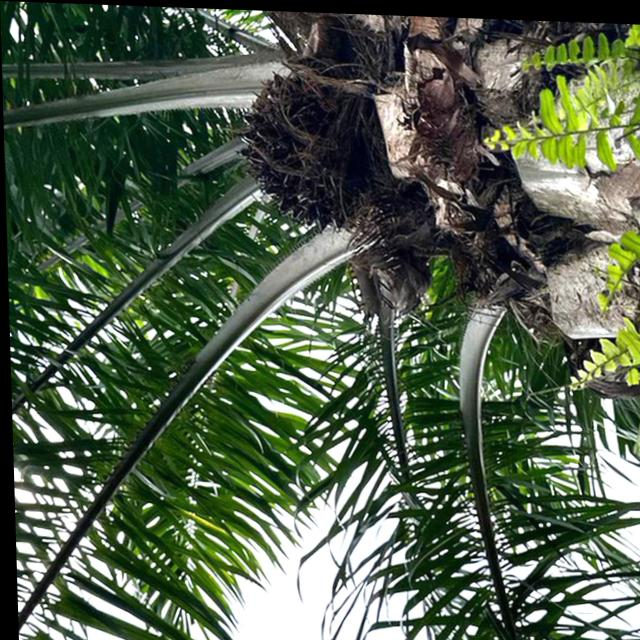ripe: (223, 54, 385, 245)
